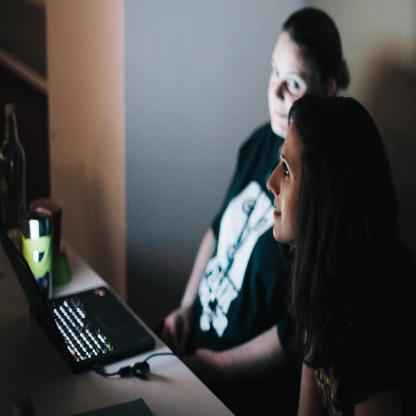board: (32, 219, 164, 382), (0, 103, 26, 234), (25, 212, 53, 300)
